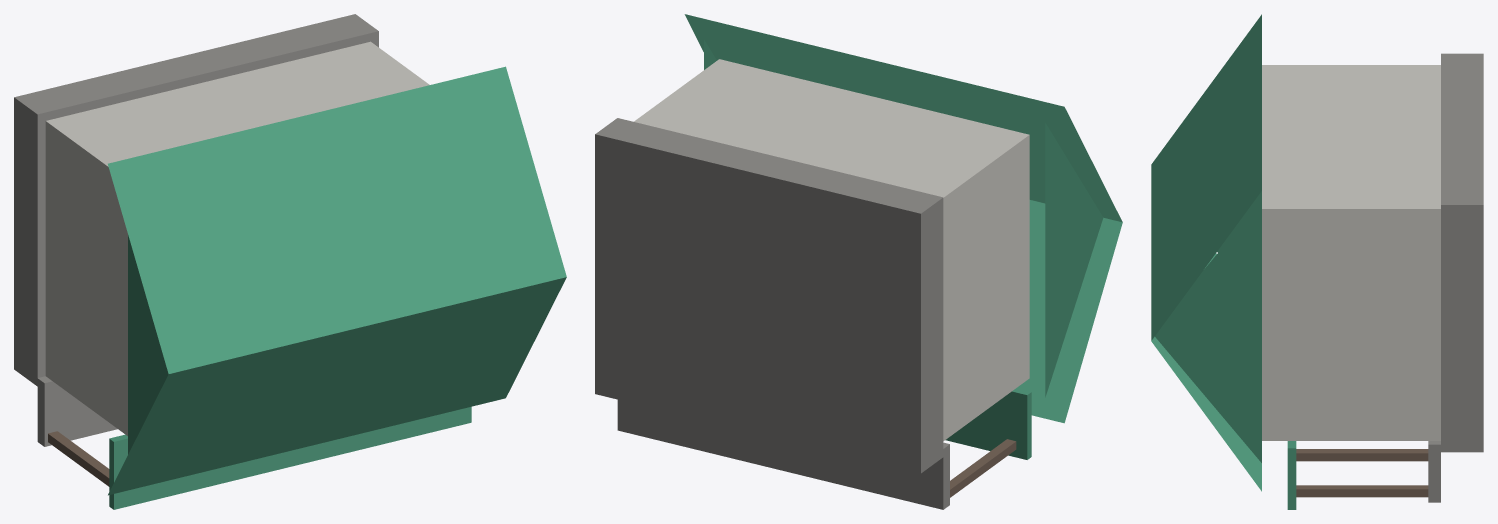
File: house_himalayan_green.glb
3 renders of one model, left to right at view 1: azimuth 30°, elevation 25°; view 2: azimuth 150°, elevation 25°; view 3: azimuth 270°, elevation 25°, orthographic. The views are drawn at different scales.
Size of the model in its own units: 9.8 by 8.5 by 7.8.
